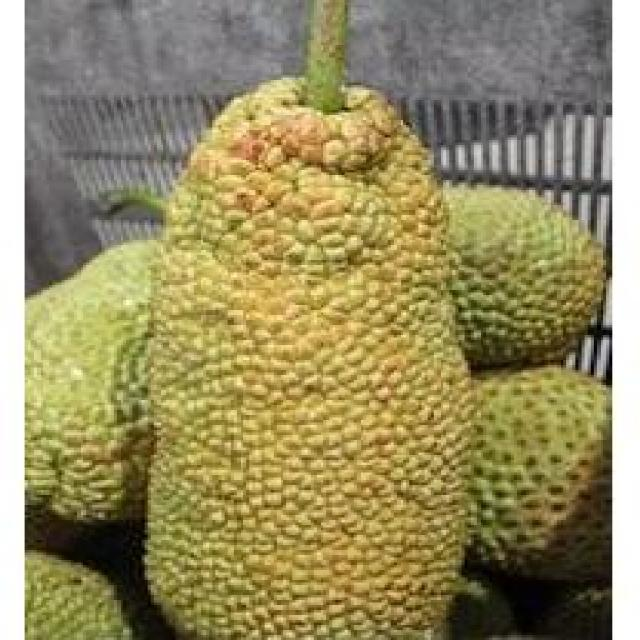Fruit: (271, 242, 609, 638), (126, 35, 489, 383)
